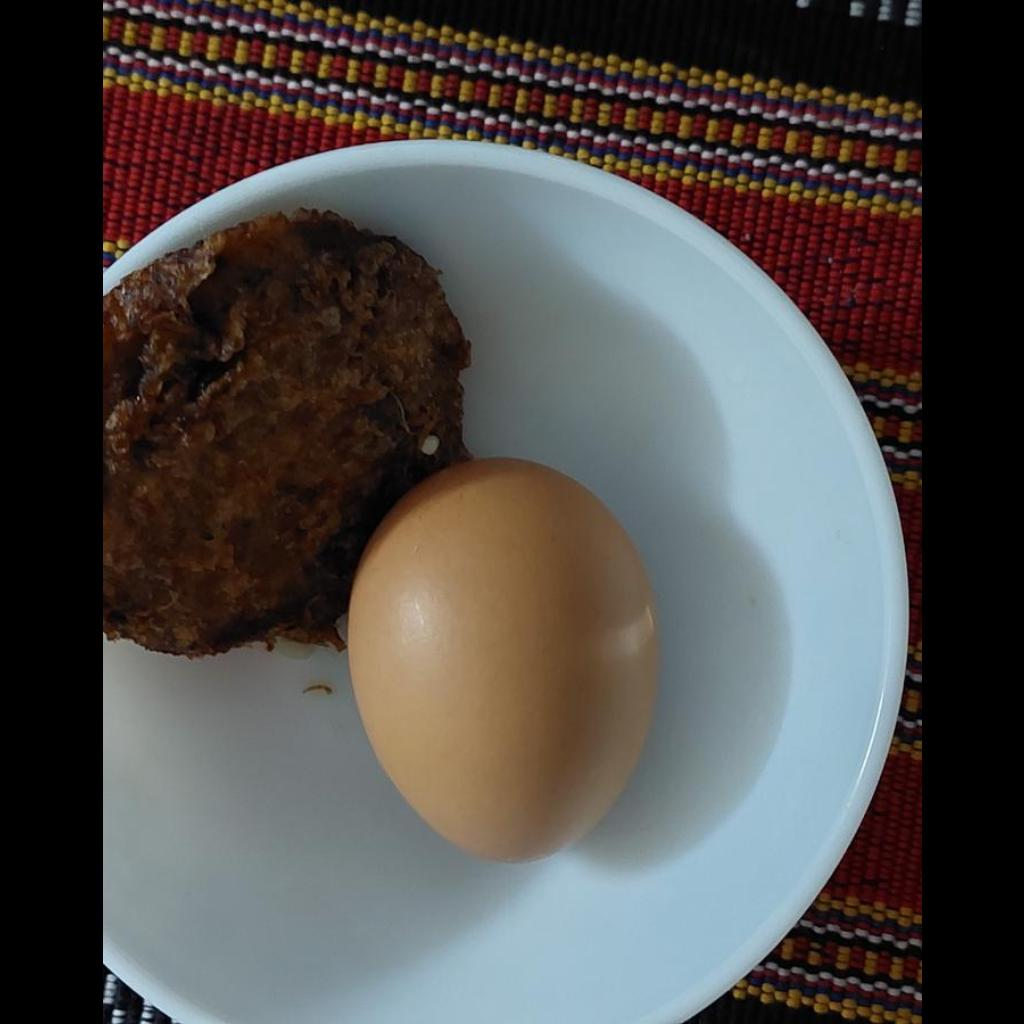egg-boiled: (352, 460, 658, 865)
kabab: (103, 209, 455, 655)
